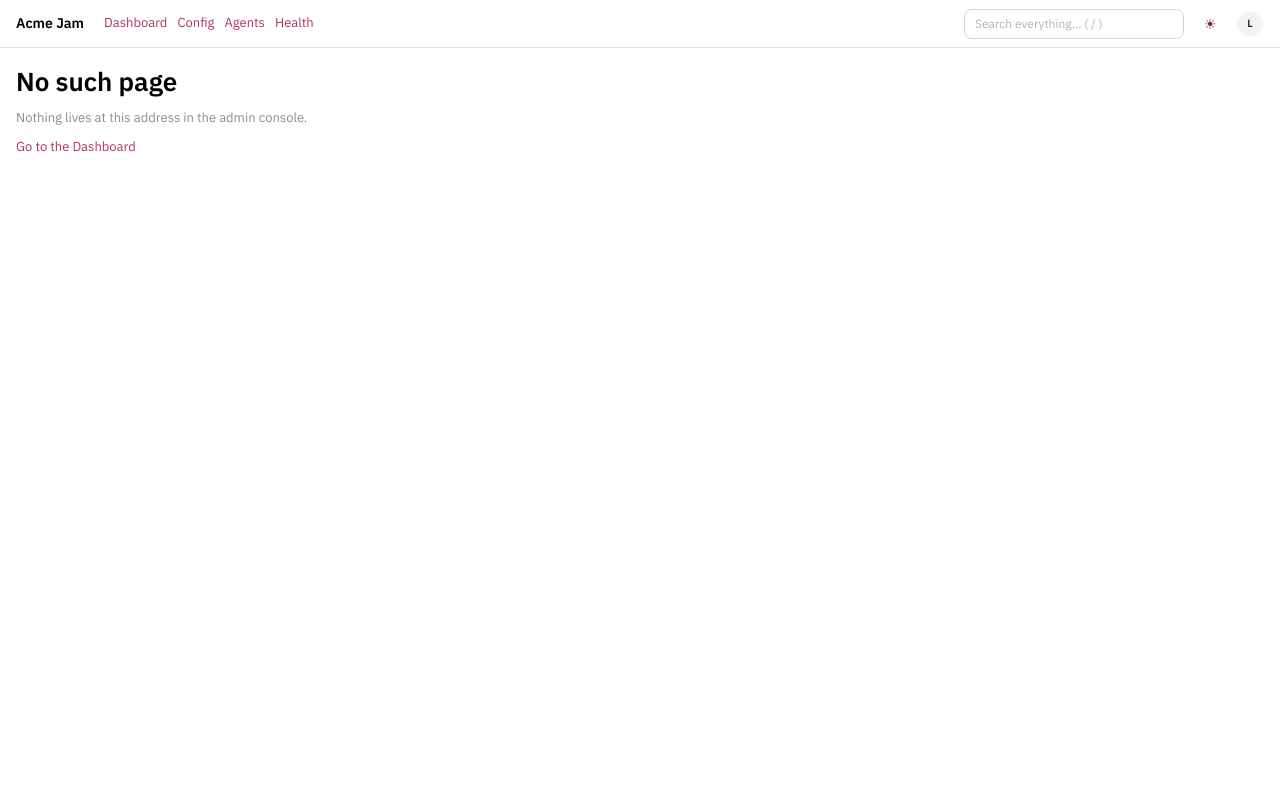
Test case: search › / selects the last query, so typing replaces it
Type "alice" into the search field labelled "Search" at (1074, 24), box [964,8,1184,38]
Then press Enter
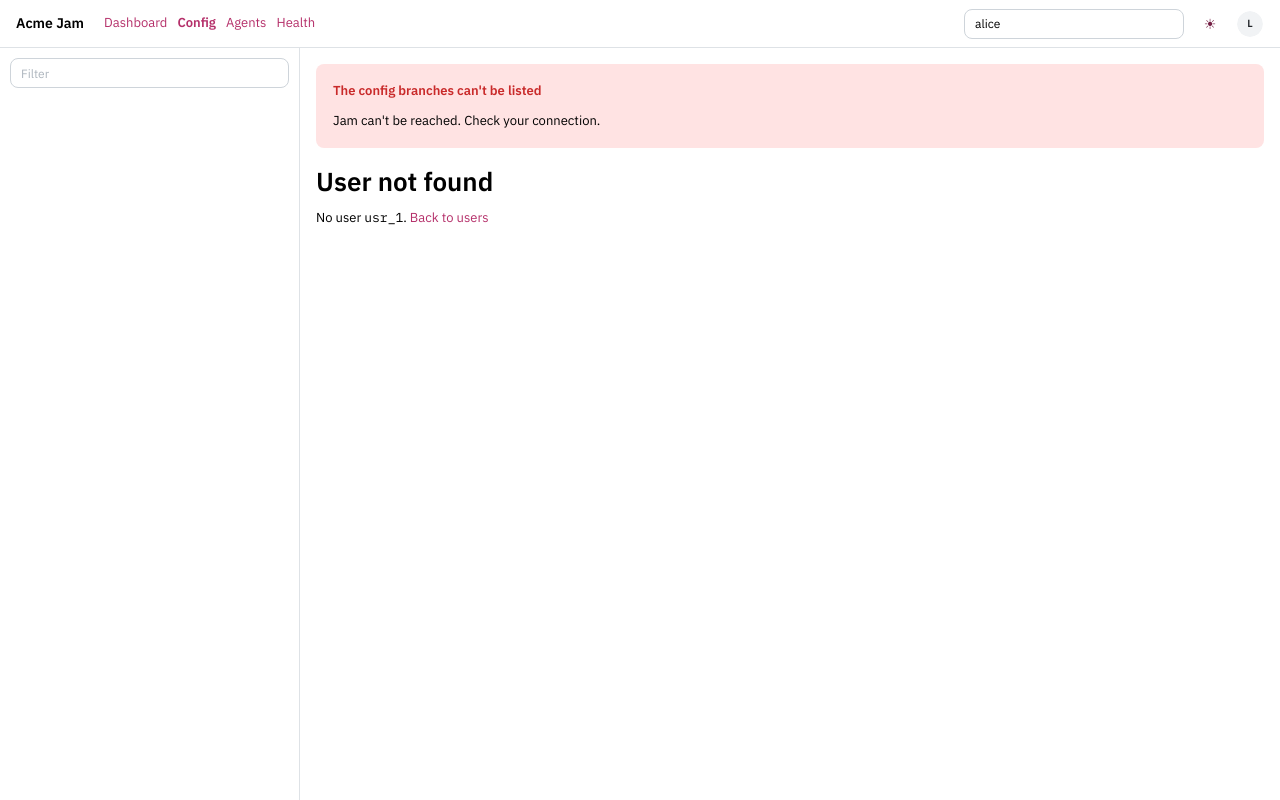
Expected: the heading "User not found" is shown, [316,164,493,198]
Type keys "/"
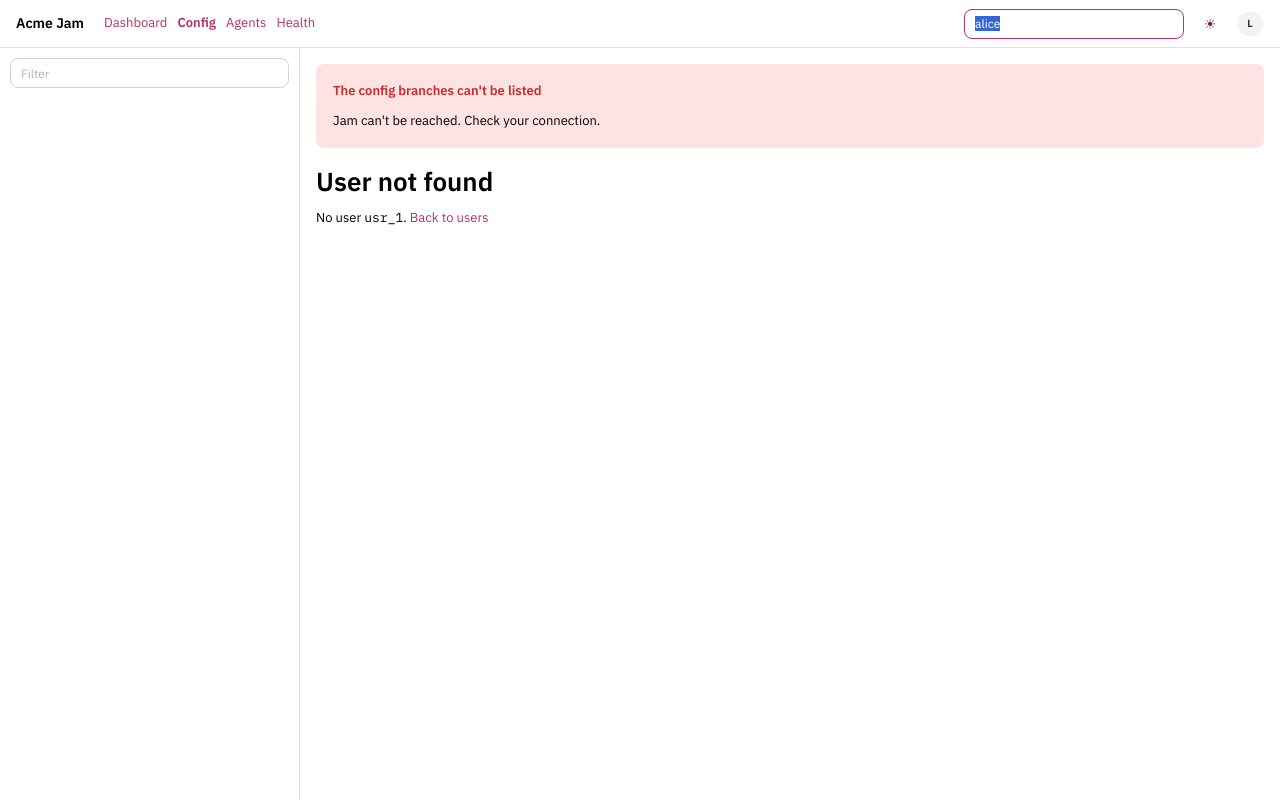
Type keys "bob"
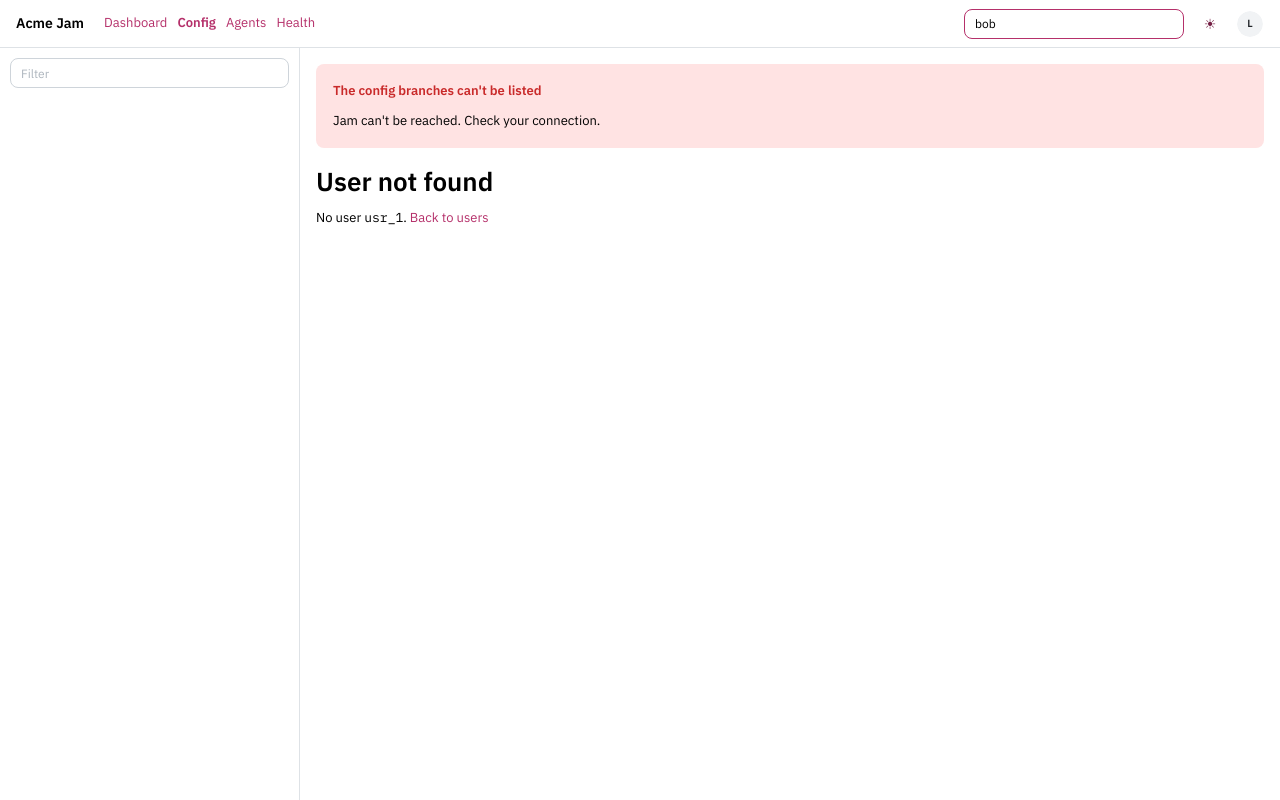
Expected: the search field named "Search" holds "bob", [964,8,1184,38]
